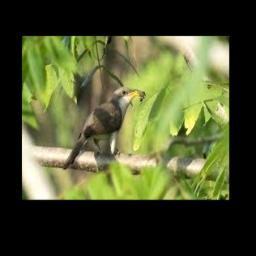Cuckoo: (62, 87, 144, 170)
